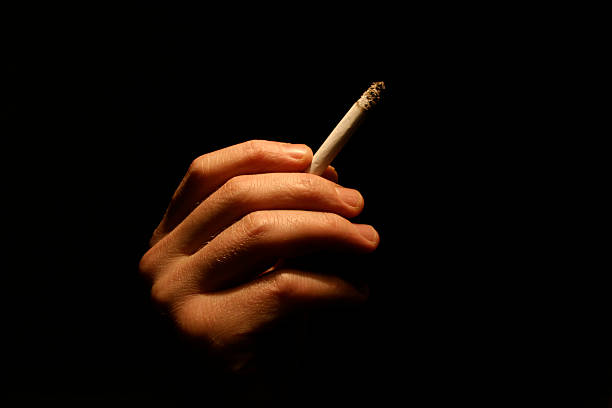cigarette: (303, 79, 386, 175)
